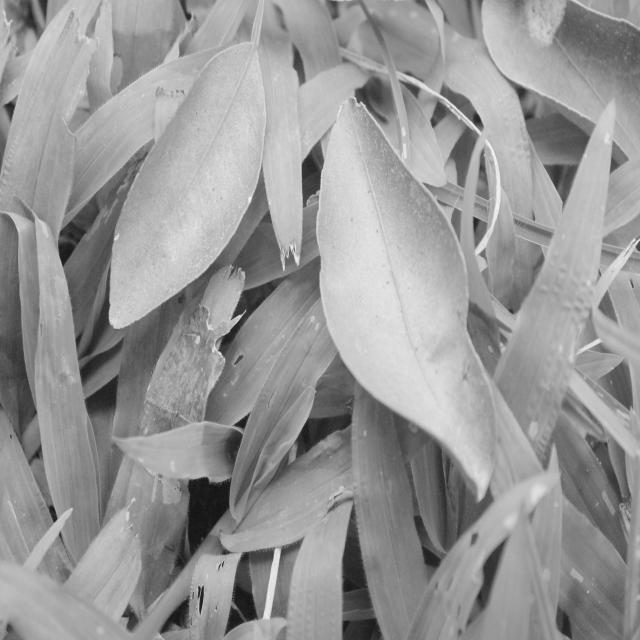blackspot: (331, 154, 482, 425), (110, 54, 255, 326)
